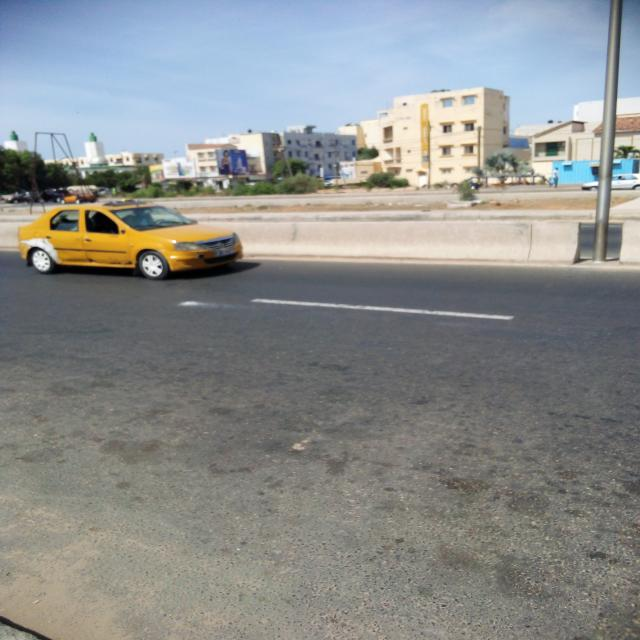particulier: (613, 175, 640, 191)
taxi: (19, 205, 258, 282)
